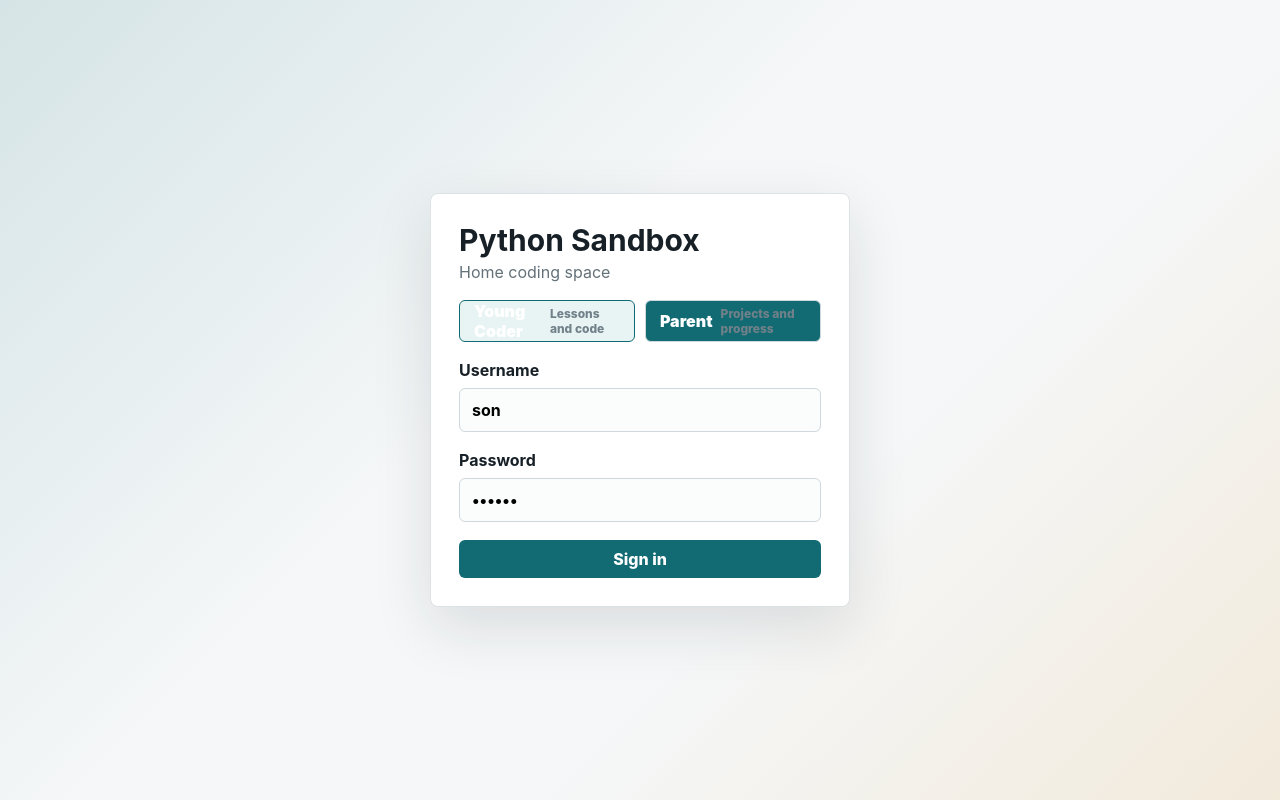
Test: App › shows child-friendly login defaults when no session exists
This screenshot has width=1280, height=800.
Check: the heading "Python Sandbox" is shown, box [459, 222, 700, 258]
Check: the button "Young Coder Lessons and code" is shown, box [459, 300, 635, 342]
Click the button "Parent Projects and progress".
click(733, 321)  # box [645, 300, 821, 342]
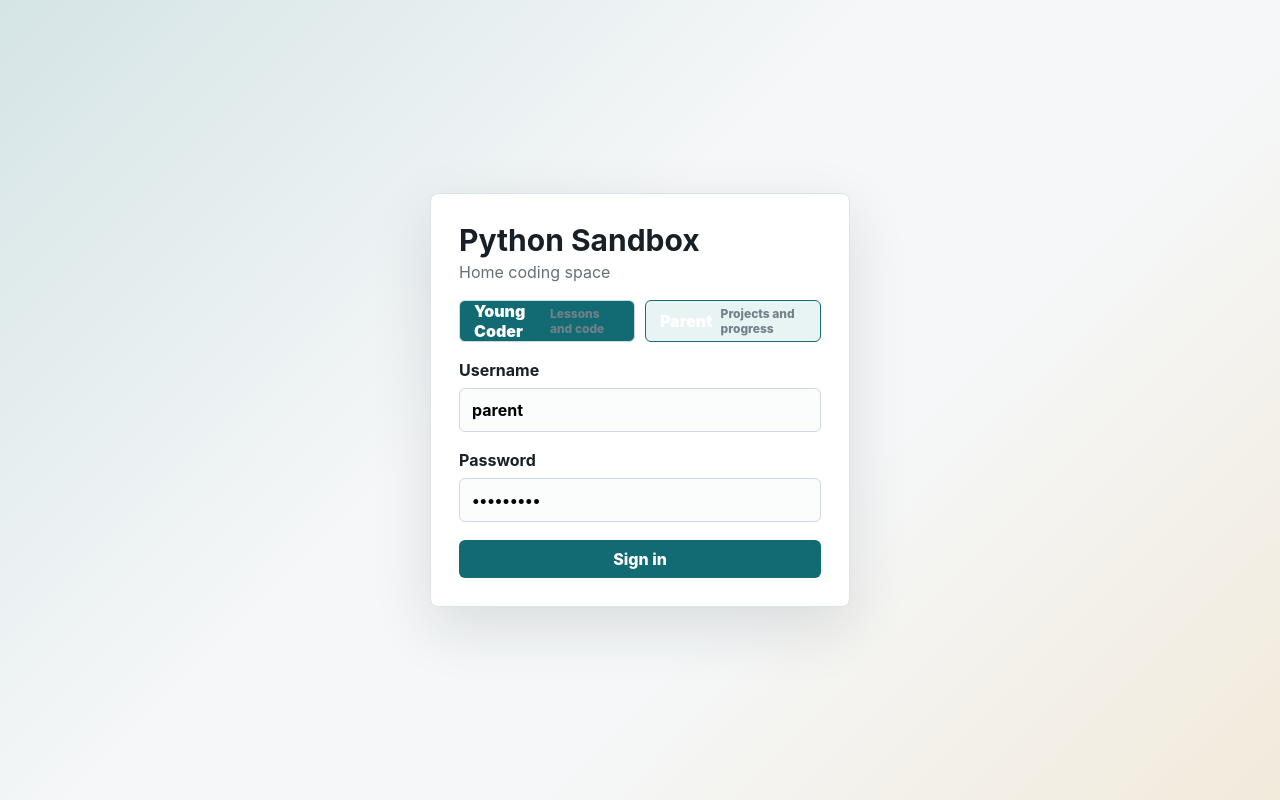
Check: the field labelled "Username" holds "parent", box [459, 388, 821, 432]
Check: the password field labelled "Password" holds "change-me", box [459, 478, 821, 522]
